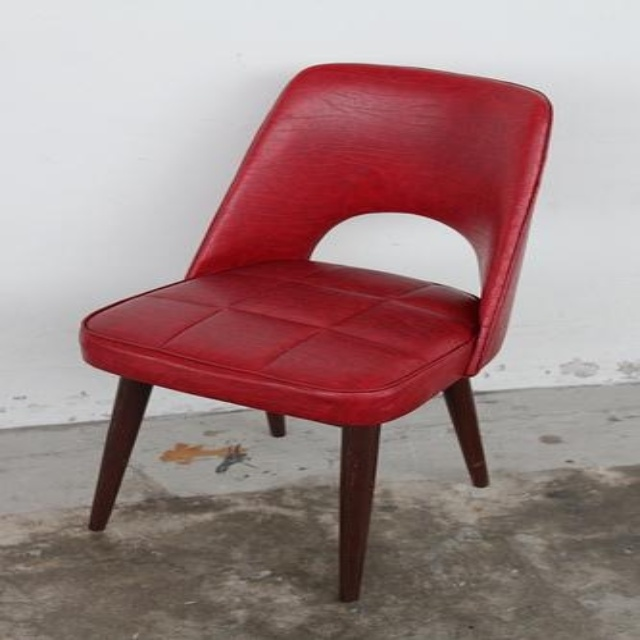obstacle: (81, 64, 550, 600)
